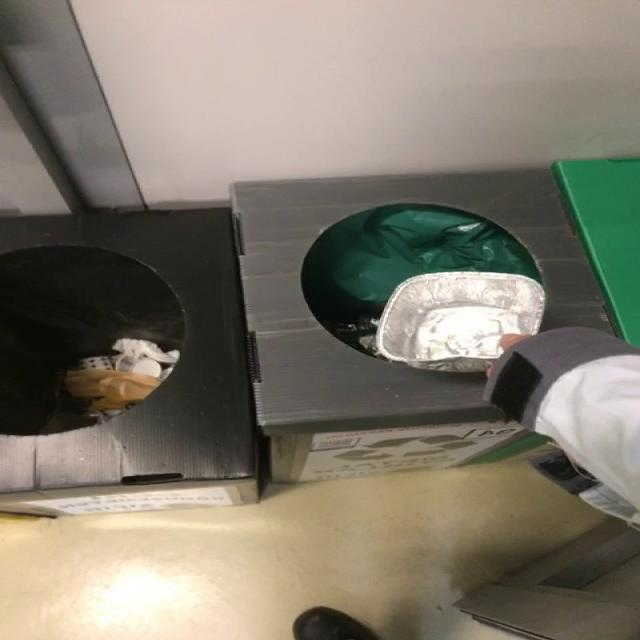metal: (379, 272, 545, 372)
